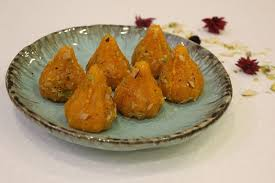modak: (39, 44, 182, 125), (136, 21, 203, 104)
